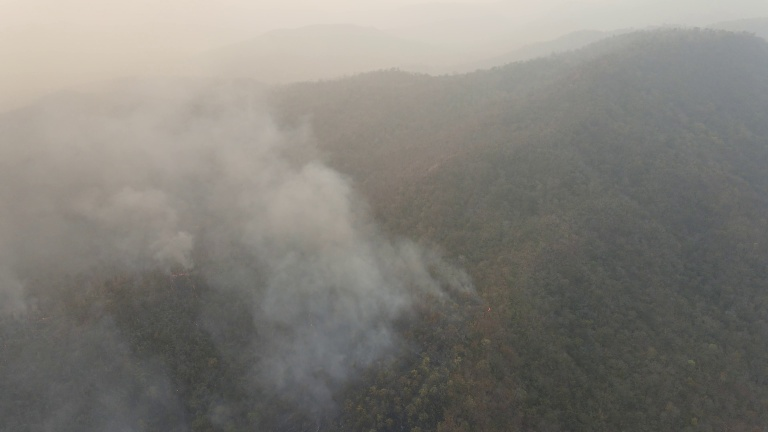smoke: (1, 27, 487, 429)
